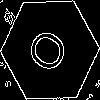O: (25, 25, 77, 81)
